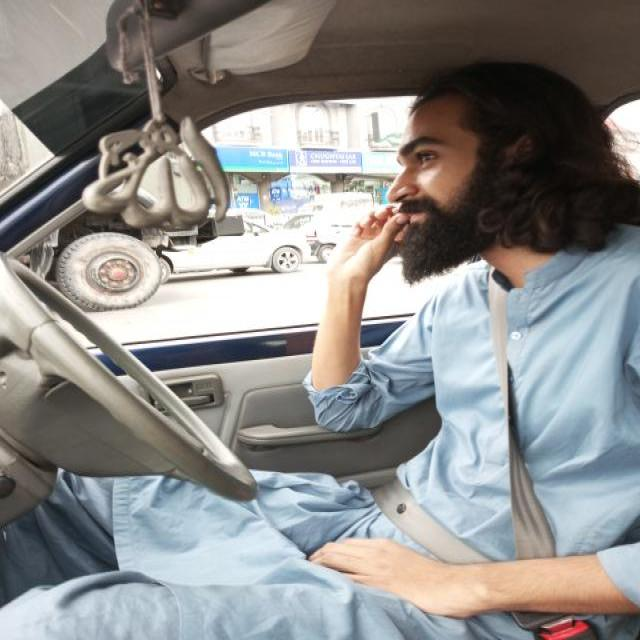seatbelt: (362, 250, 596, 640)
